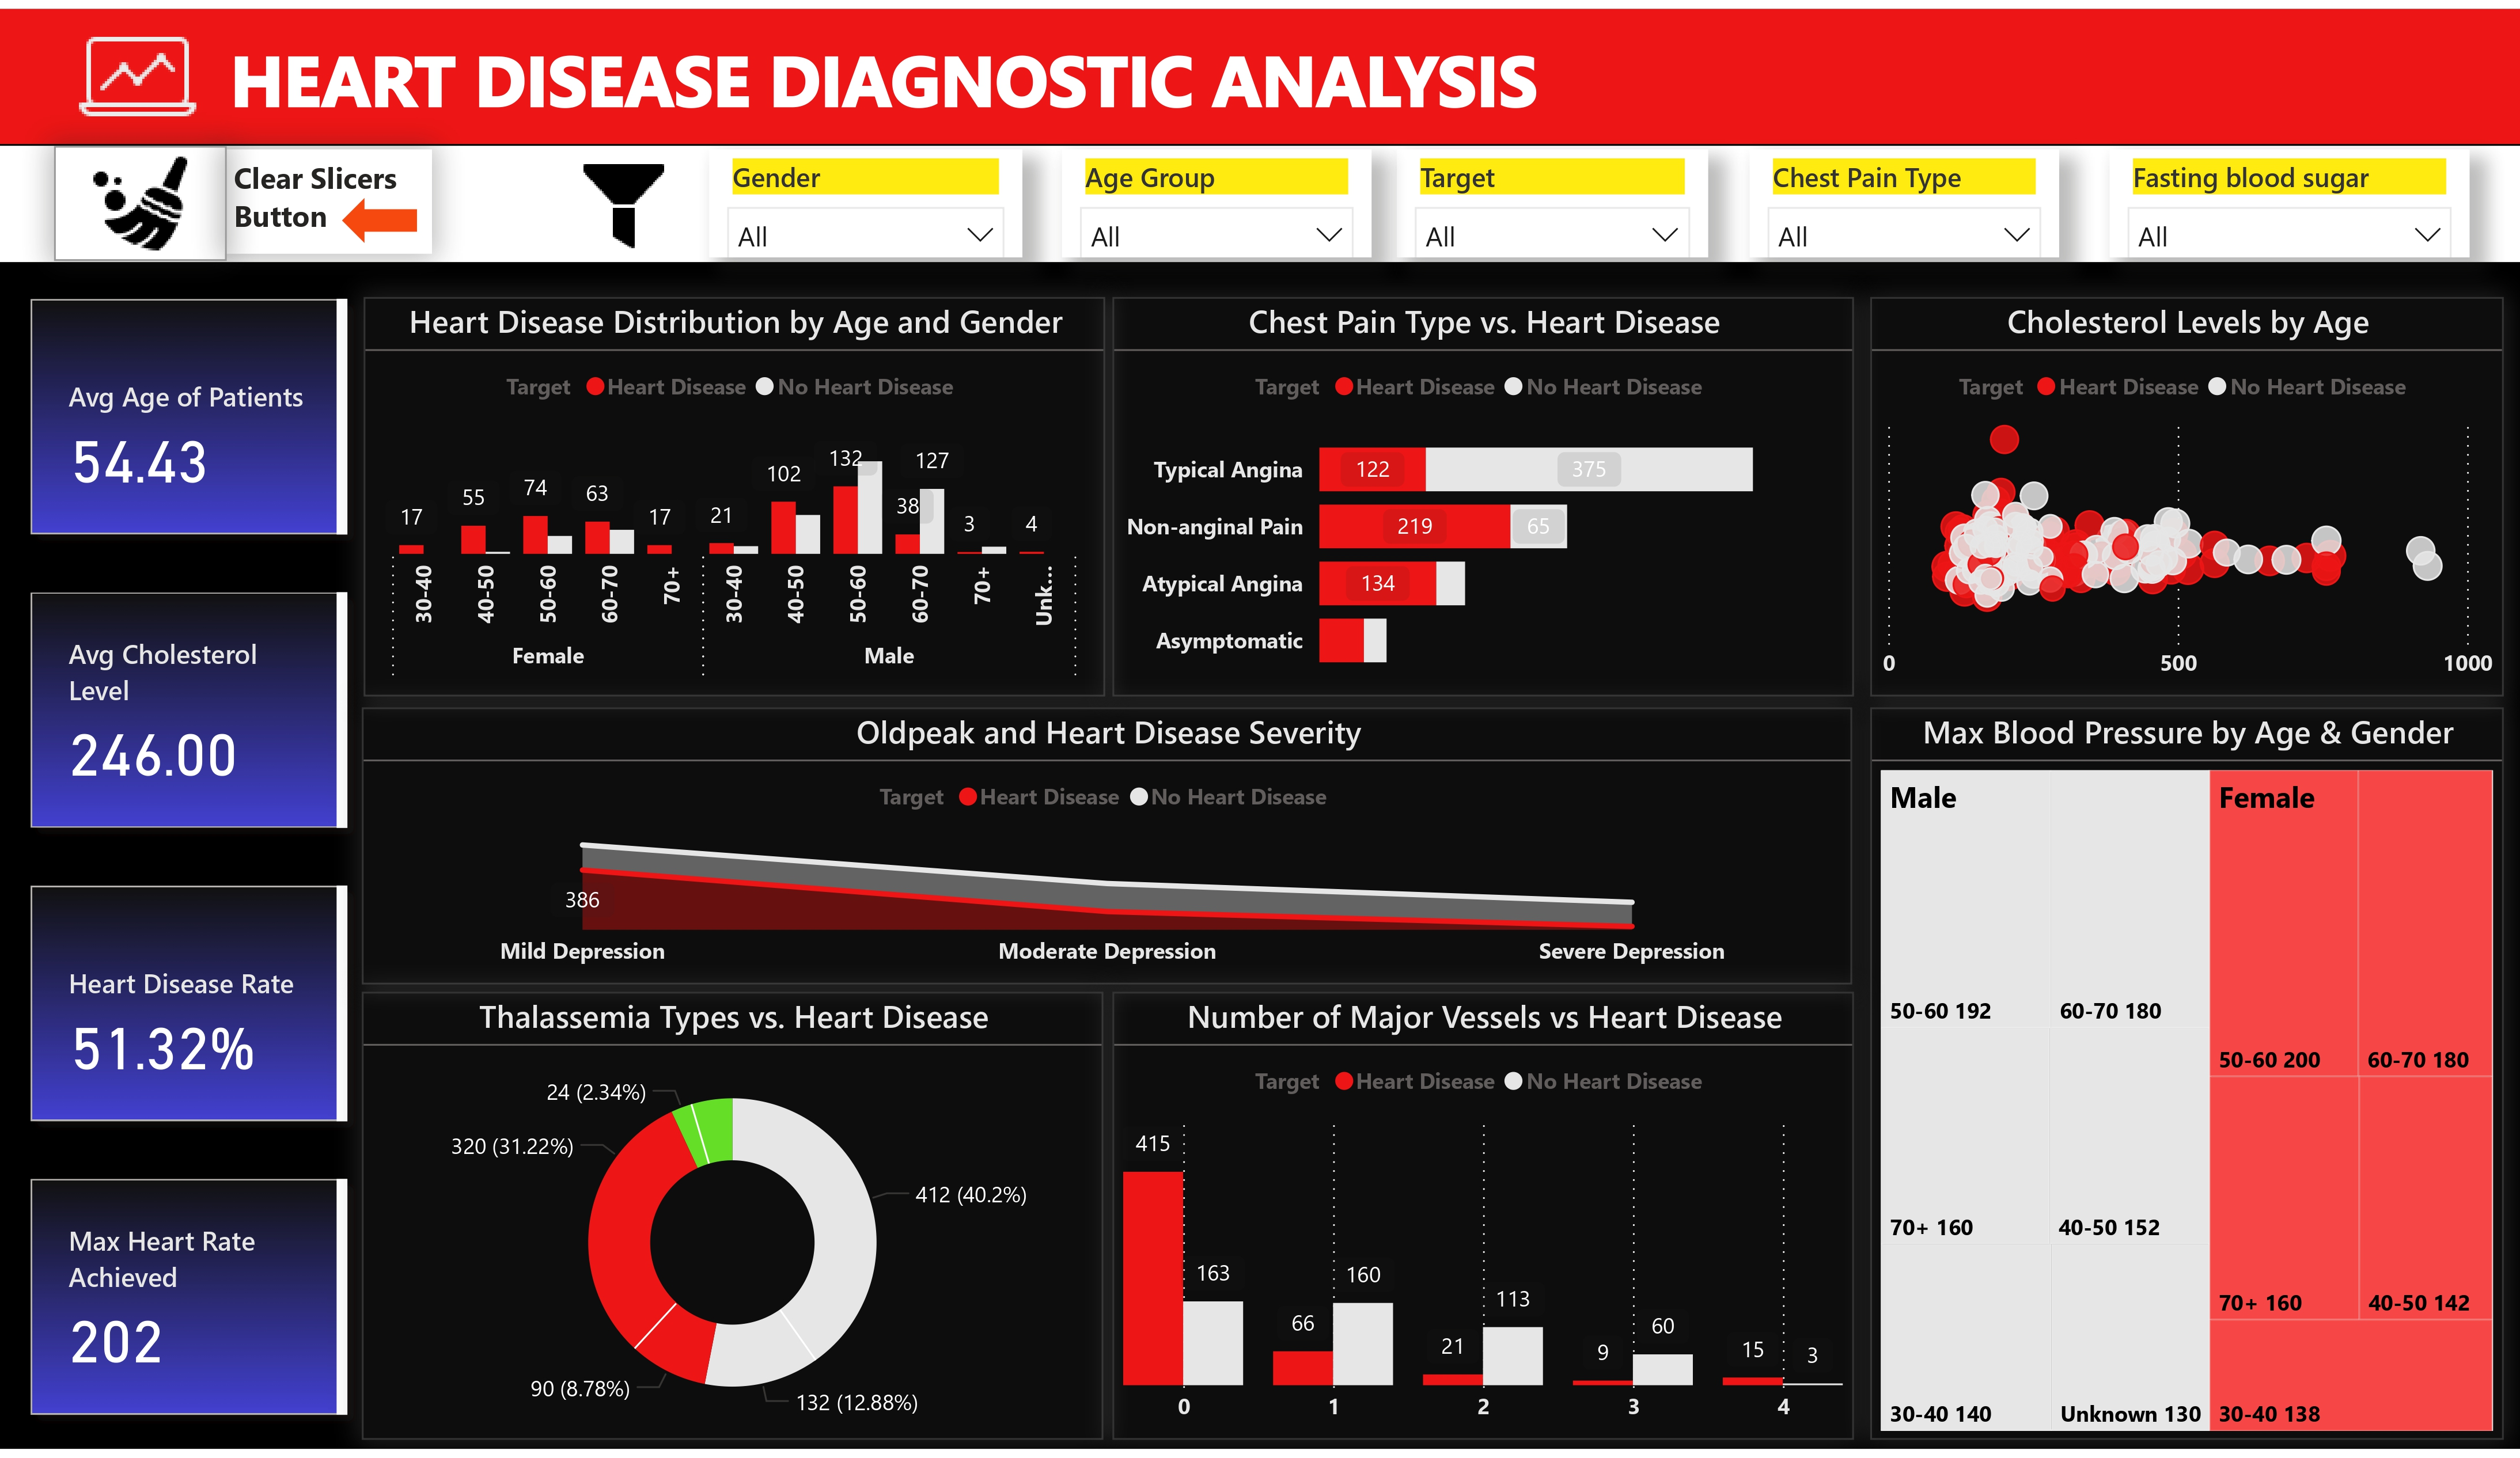

The page's visual inventory and layout, read from the dashboard file:
{"tool":"powerbi","page":{"name":"Dashboard","canvas":[1400,800],"ordinal":0},"visuals":[{"type":"cardVisual","title":"Average Age of Patients","fields":{"Data":["Avg(Heart Disease data.Age)","Avg(Heart Disease data.Serum cholesterol)","Heart Disease data.Heart Disease Rate (%)","Max(Heart Disease data.thalach)"]},"box":[0,144,210,656],"z":0},{"type":"shape","box":[0,0,1400,75.5],"z":1000},{"type":"shape","box":[0,76.2,1400,64.6],"z":2000},{"type":"image","box":[30.2,0,92.5,75.5],"z":3000},{"type":"image","box":[303.9,78.7,85,61.4],"z":4000},{"type":"textbox","box":[125.4,78.5,114.6,57.7],"z":5000},{"type":"shape","box":[190,105,41.7,25],"z":6000},{"type":"image","box":[30,75.7,95.7,64.3],"z":7000},{"type":"slicer","fields":{"Values":["Heart Disease data.Gender"]},"box":[394,78,174,60],"z":8000},{"type":"slicer","fields":{"Values":["Heart Disease data.Target"]},"box":[776,77.5,172.5,60],"z":9000},{"type":"slicer","fields":{"Values":["Heart Disease data.Chest Pain Type"]},"box":[972,78,172,60],"z":10000},{"type":"slicer","fields":{"Values":["Heart Disease data.Fasting blood sugar"]},"box":[1172,78,200,60],"z":11000},{"type":"slicer","fields":{"Values":["Heart Disease data.Age Group"]},"box":[590,78,172,60],"z":12000},{"type":"clusteredColumnChart","title":" Heart Disease Distribution by Age and Gender","fields":{"Category":["Heart Disease data.Gender","Heart Disease data.Age Group"],"Y":["CountNonNull(Heart Disease data.Target)"],"Series":["Heart Disease data.Target"]},"box":[201.6,160,411.8,221.7],"z":13000},{"type":"barChart","title":"Chest Pain Type vs. Heart Disease","fields":{"Y":["CountNonNull(Heart Disease data.Target)"],"Category":["Heart Disease data.Chest Pain Type"],"Series":["Heart Disease data.Target"]},"box":[617.6,160,411.8,221.7],"z":14000},{"type":"scatterChart","title":"Cholesterol Levels by Age","fields":{"X":["Sum(Heart Disease data.Age)"],"Series":["Heart Disease data.Target"],"Y":["Heart Disease data.Serum cholesterol"],"Size":["Max(Heart Disease data.thalach)"]},"box":[1038.9,160,351.6,221.7],"z":15000},{"type":"treemap","title":"Max Blood Pressure by Age & Gender","fields":{"Group":["Heart Disease data.Gender"],"Values":["Max(Heart Disease data.Resting blood pressure)"],"Details":["Heart Disease data.Age Group"]},"box":[1038.9,388,351.6,407],"z":16000},{"type":"stackedAreaChart","title":"Oldpeak and Heart Disease Severity","fields":{"Category":["Heart Disease data. Oldpeak Category"],"Y":["CountNonNull(Heart Disease data.Target)"],"Series":["Heart Disease data.Target"]},"box":[201.1,388,828.3,153.6],"z":16001},{"type":"donutChart","title":" Thalassemia Types vs. Heart Disease","fields":{"Category":["Heart Disease data.Thalassemia"],"Y":["CountNonNull(Heart Disease data.Target)"],"Series":["Heart Disease data.Target"]},"box":[201.1,546.4,411.8,248.6],"z":16002},{"type":"clusteredColumnChart","title":"Number of Major Vessels vs Heart Disease","fields":{"Category":["Heart Disease data.Number of Major Vessels"],"Y":["CountNonNull(Heart Disease data.Target)"],"Series":["Heart Disease data.Target"]},"box":[617.6,546.4,411.8,248.6],"z":16003}]}

Visuals, with their boxes in screenshot pixels (x1, y1, x2, y2), scaled from the page's 1400x800 canvas onto the 2520x1458 screenshot:
"Average Age of Patients" cardVisual: (x1=0, y1=263, x2=378, y2=1457)
shape: (x1=0, y1=0, x2=2519, y2=138)
shape: (x1=0, y1=139, x2=2519, y2=257)
image: (x1=54, y1=0, x2=221, y2=138)
image: (x1=547, y1=143, x2=700, y2=255)
textbox: (x1=226, y1=143, x2=432, y2=248)
shape: (x1=342, y1=191, x2=417, y2=237)
image: (x1=54, y1=138, x2=226, y2=255)
slicer - Heart Disease data.Gender: (x1=709, y1=142, x2=1022, y2=252)
slicer - Heart Disease data.Target: (x1=1397, y1=141, x2=1707, y2=250)
slicer - Heart Disease data.Chest Pain Type: (x1=1750, y1=142, x2=2059, y2=252)
slicer - Heart Disease data.Fasting blood sugar: (x1=2109, y1=142, x2=2470, y2=252)
slicer - Heart Disease data.Age Group: (x1=1062, y1=142, x2=1371, y2=252)
" Heart Disease Distribution by Age and Gender" clusteredColumnChart: (x1=363, y1=291, x2=1104, y2=696)
"Chest Pain Type vs. Heart Disease" barChart: (x1=1112, y1=291, x2=1853, y2=696)
"Cholesterol Levels by Age" scatterChart: (x1=1870, y1=291, x2=2503, y2=696)
"Max Blood Pressure by Age & Gender" treemap: (x1=1870, y1=707, x2=2503, y2=1449)
"Oldpeak and Heart Disease Severity" stackedAreaChart: (x1=362, y1=707, x2=1853, y2=987)
" Thalassemia Types vs. Heart Disease" donutChart: (x1=362, y1=996, x2=1103, y2=1449)
"Number of Major Vessels vs Heart Disease" clusteredColumnChart: (x1=1112, y1=996, x2=1853, y2=1449)
